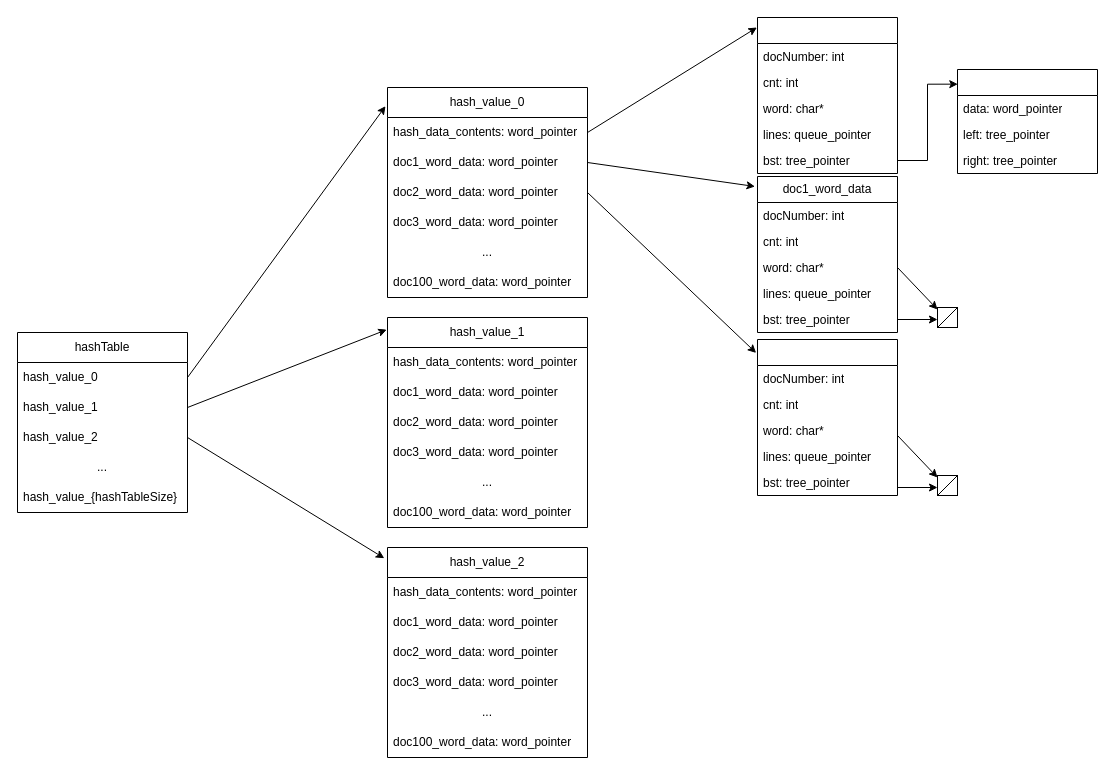
This 1115x775 diagram has some shape labels left out. The shapes that lost their labels are listed below. From the top down, each one's box as (x1, y1, x2, y2) in pixels, then its label:
(756, 16, 898, 174): hash_data_contents
(956, 68, 1098, 174): tree_node
(756, 338, 898, 496): doc2_word_data
